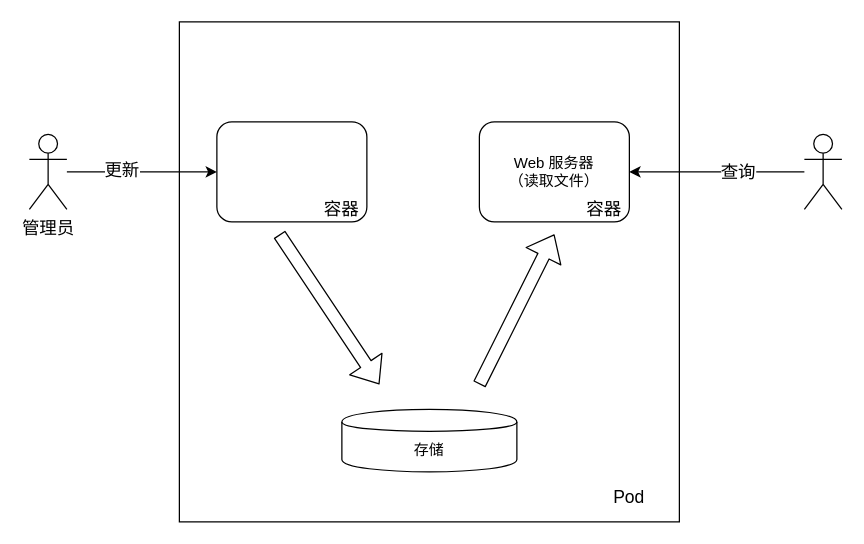
The diagram is 864 pixels wide and 544 high, and some of its shapes have lost their labels. Here are the shapes that lost their labels. From the top down, the box of each, then its label:
(216, 121, 367, 222): 文件管理 （更新文件）
(803, 133, 842, 209): 用户
